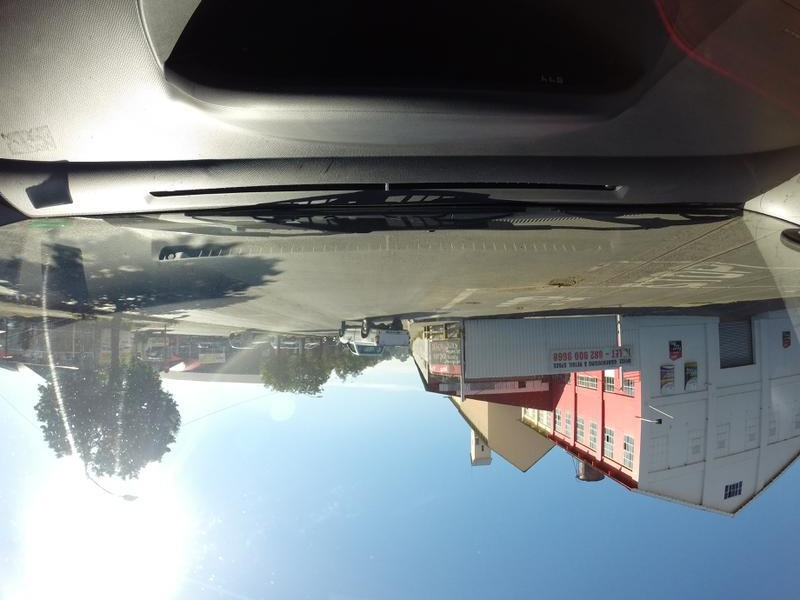pothole: (542, 277, 578, 288), (501, 286, 532, 293), (511, 304, 525, 314), (454, 300, 480, 305)
